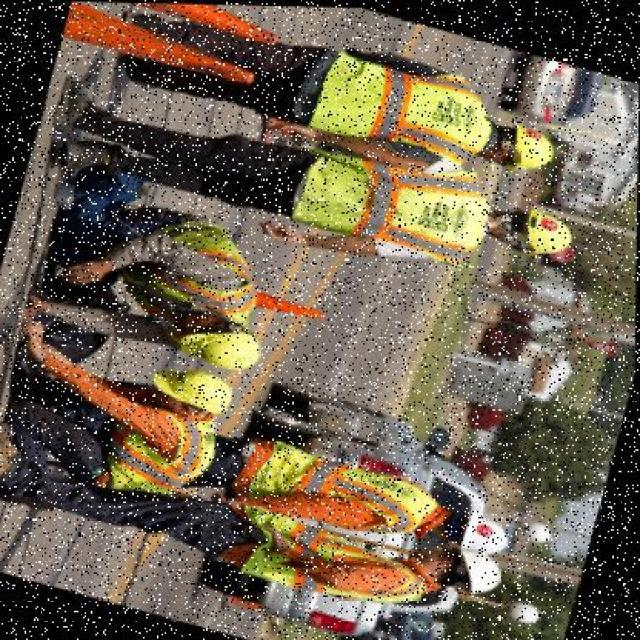helmet: (158, 306, 266, 380), (143, 360, 236, 418), (516, 203, 583, 265), (451, 545, 510, 603), (503, 121, 559, 177), (454, 509, 514, 557)
vest: (274, 134, 498, 276), (295, 32, 507, 172), (234, 431, 446, 538), (231, 513, 429, 618), (125, 210, 257, 323), (106, 392, 228, 510)
